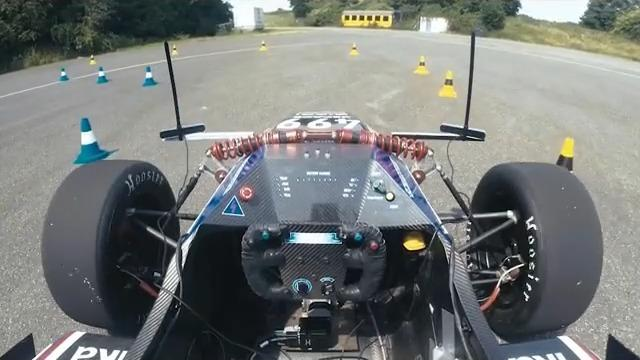blue_cone: (68, 114, 108, 166), (140, 64, 157, 89), (95, 65, 108, 85), (58, 66, 69, 83)
yellow_cone: (540, 139, 587, 224), (437, 69, 458, 99), (414, 55, 429, 74), (258, 38, 267, 52), (171, 44, 180, 57), (350, 42, 358, 56), (89, 54, 96, 66)
